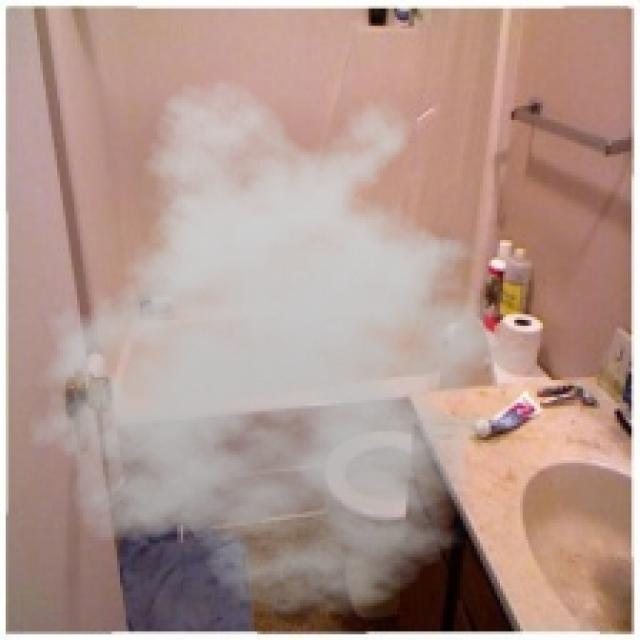Smoke: (14, 77, 557, 617)
